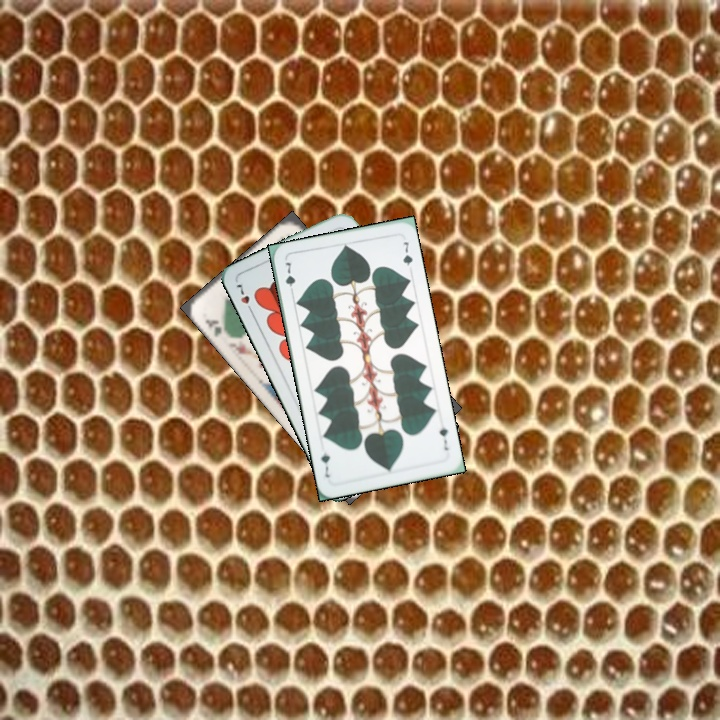G7: (281, 258, 298, 297), (435, 423, 451, 453)
GK: (201, 315, 224, 340)
H7: (232, 278, 256, 316)
